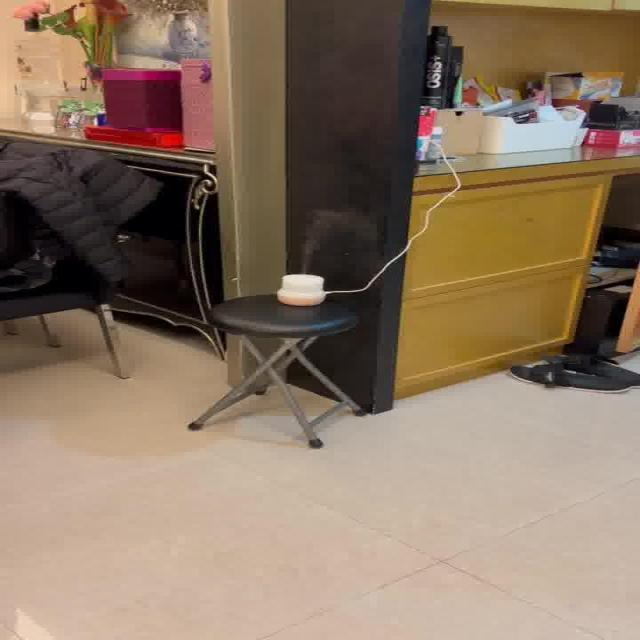fire: (294, 205, 363, 268)
